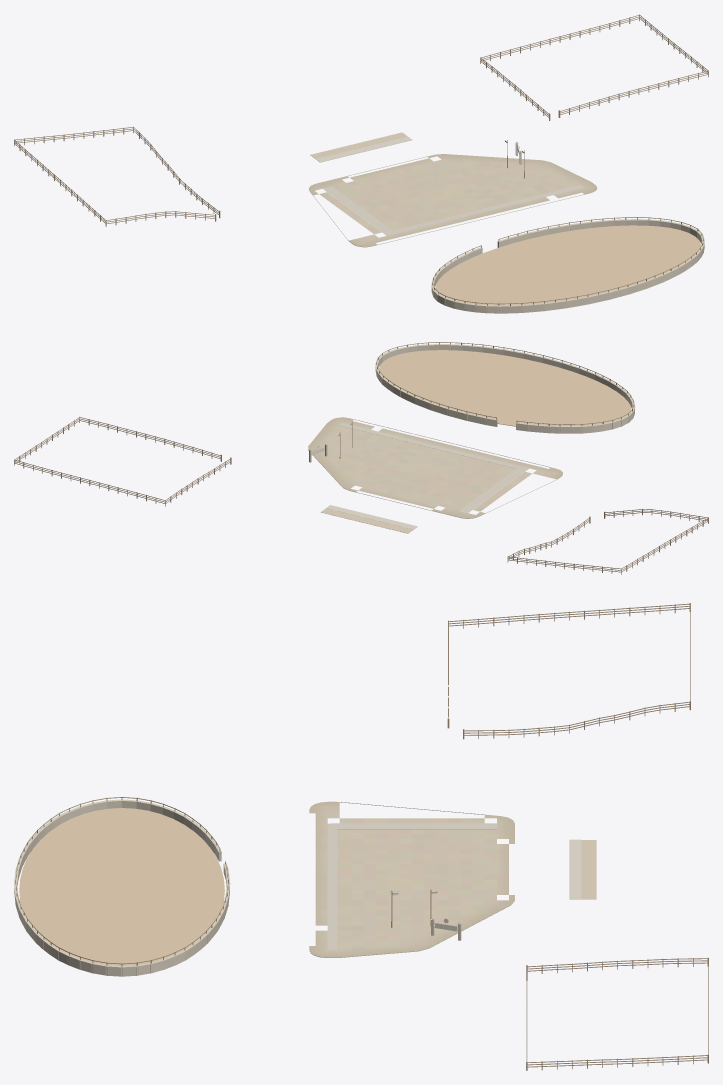
Rendered from SM_BM_BE_1_Grounds.glb.
3 views of the same model, one above another, from view 1: azimuth 30°, elevation 25°; view 2: azimuth 150°, elevation 25°; view 3: azimuth 270°, elevation 25° (orthographic). The views are drawn at different scales.
Visible parts, largest first — view 1: SM_BM_BE_1_Grounds; view 2: SM_BM_BE_1_Grounds; view 3: SM_BM_BE_1_Grounds.
Part boxes in pixels (left/top/right/bottom): SM_BM_BE_1_Grounds: left=14, top=14, right=708, bottom=313; SM_BM_BE_1_Grounds: left=14, top=342, right=708, bottom=574; SM_BM_BE_1_Grounds: left=14, top=603, right=708, bottom=1070.
Size of the model in its own units: 159 by 13.22 by 115.
